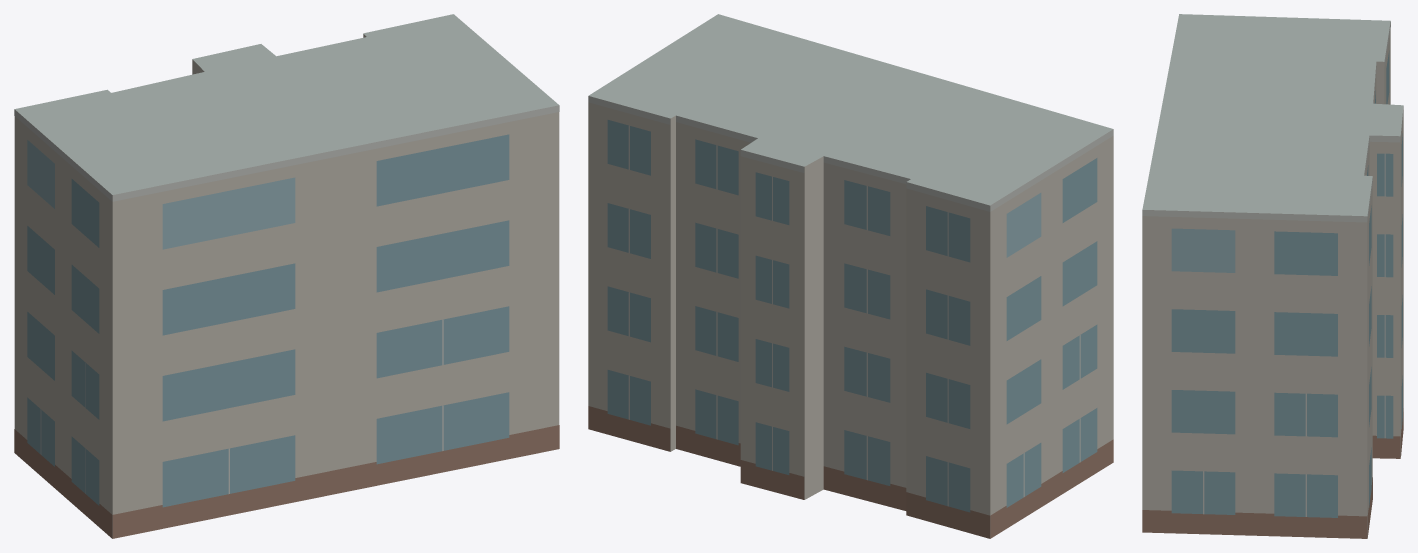
The model's file is survey-upis-32754473.glb.
3 renders of one model, left to right at view 1: azimuth 30°, elevation 25°; view 2: azimuth 150°, elevation 25°; view 3: azimuth 270°, elevation 25°, orthographic. The views are drawn at different scales.
Parts seen in each view (by area): view 1: survey-upis-32754473.tmp; view 2: survey-upis-32754473.tmp; view 3: survey-upis-32754473.tmp.
Boxes of the visible parts, x1,y1,x2,y2 form: survey-upis-32754473.tmp: (14,14,559,538); survey-upis-32754473.tmp: (588,14,1113,538); survey-upis-32754473.tmp: (1142,14,1403,538).
Size of the model in its own units: 16.95 by 12.6 by 9.26.
